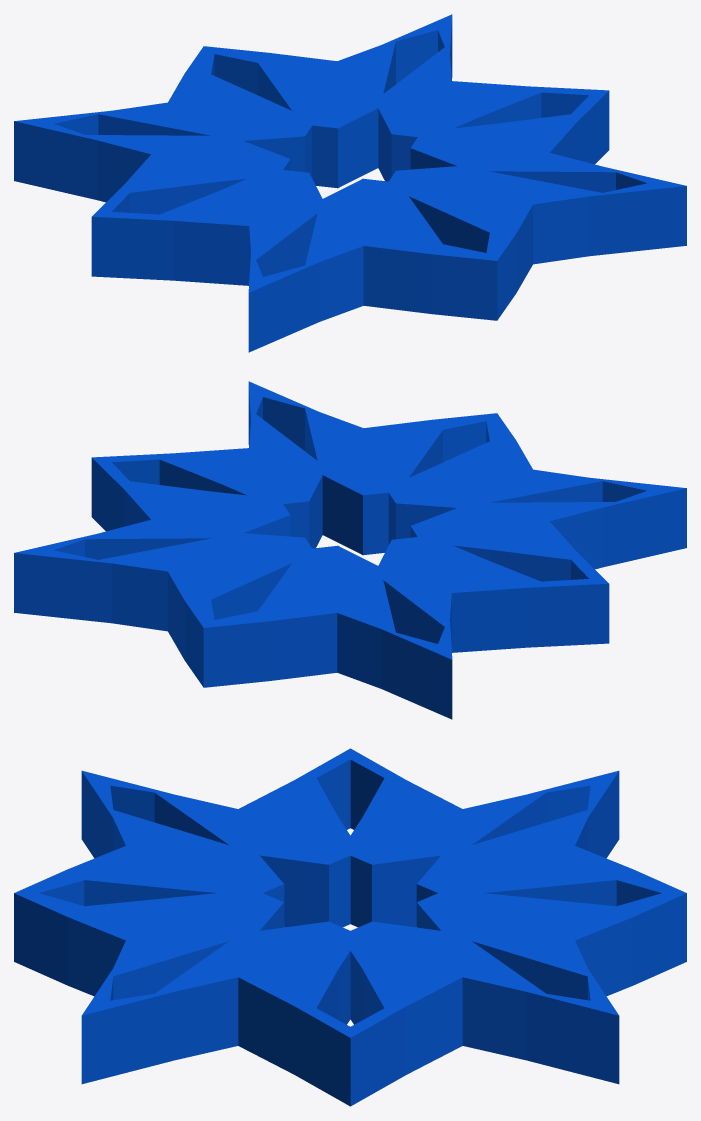
The model's file is Snowflake_Sroda.fbx.
The picture shows the model from 3 angles, top to bottom: view 1: azimuth 30°, elevation 25°; view 2: azimuth 150°, elevation 25°; view 3: azimuth 270°, elevation 25°; orthographic projection. The views are drawn at different scales.
Parts seen in each view (by area): view 1: Freez; view 2: Freez; view 3: Freez.
Boxes of the visible parts, left/top/right/bottom form: Freez: left=14, top=14, right=686, bottom=352; Freez: left=14, top=381, right=686, bottom=719; Freez: left=14, top=748, right=686, bottom=1106.
Size of the model in its own units: 185 by 20.48 by 182.
